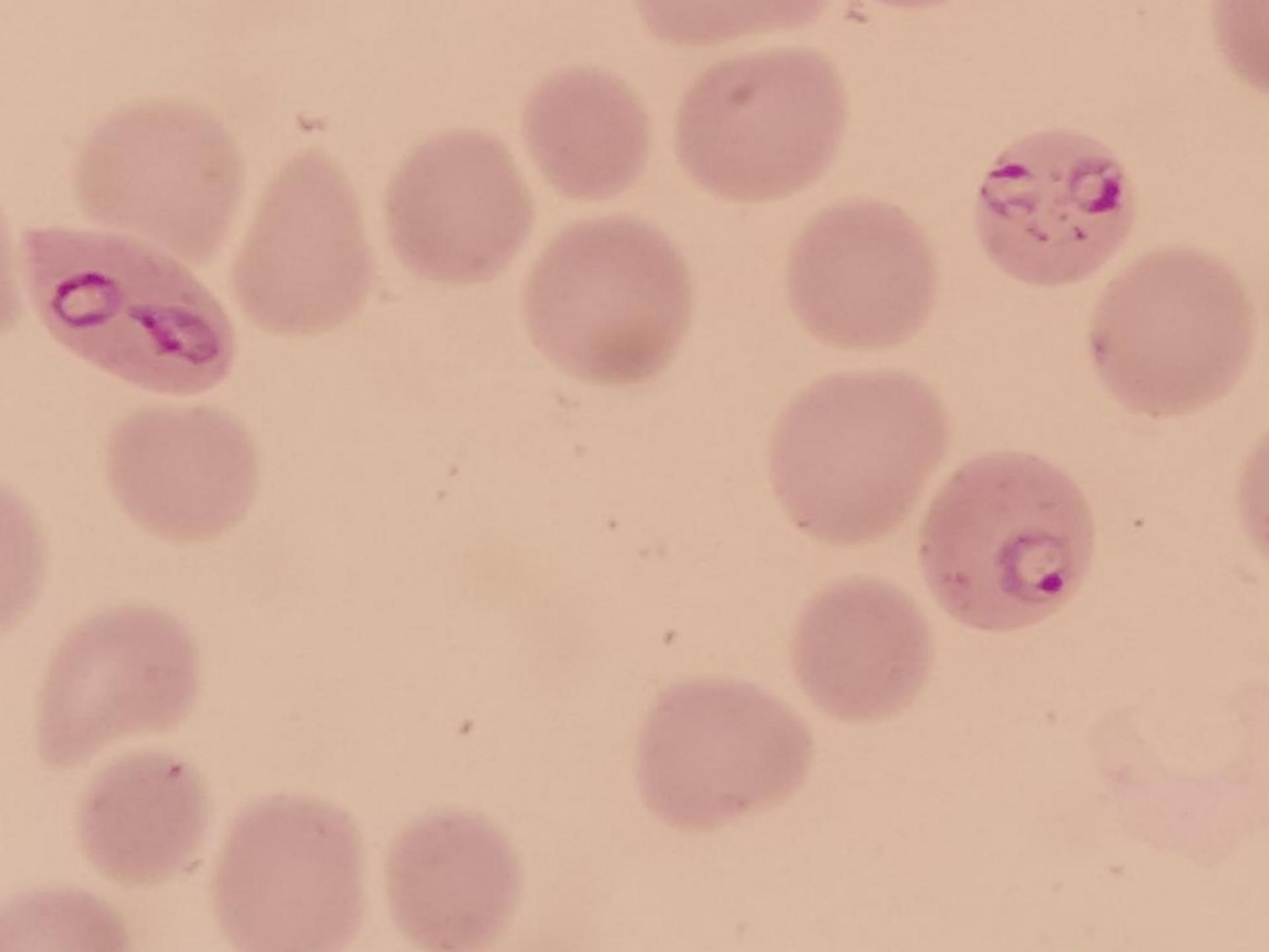Infected: (13, 225, 237, 396), (925, 451, 1097, 631), (974, 131, 1133, 281)
Uninfected: (770, 369, 950, 545), (636, 669, 812, 829), (1091, 245, 1250, 417), (73, 98, 237, 260), (674, 48, 842, 205), (231, 152, 375, 334), (36, 606, 198, 767), (529, 220, 689, 382), (212, 795, 367, 952), (390, 131, 533, 282), (787, 200, 933, 347), (109, 407, 260, 542), (793, 578, 931, 721), (385, 813, 523, 948), (76, 749, 209, 884), (522, 66, 646, 203)
